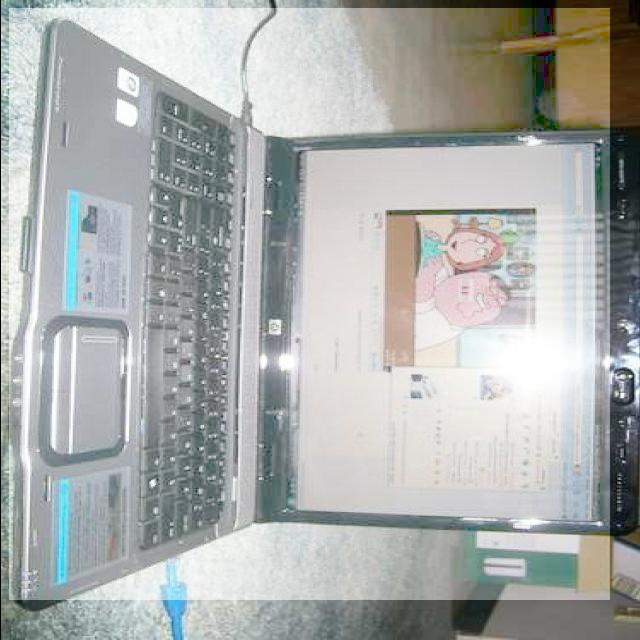-keyboard-: (9, 8, 610, 600)
